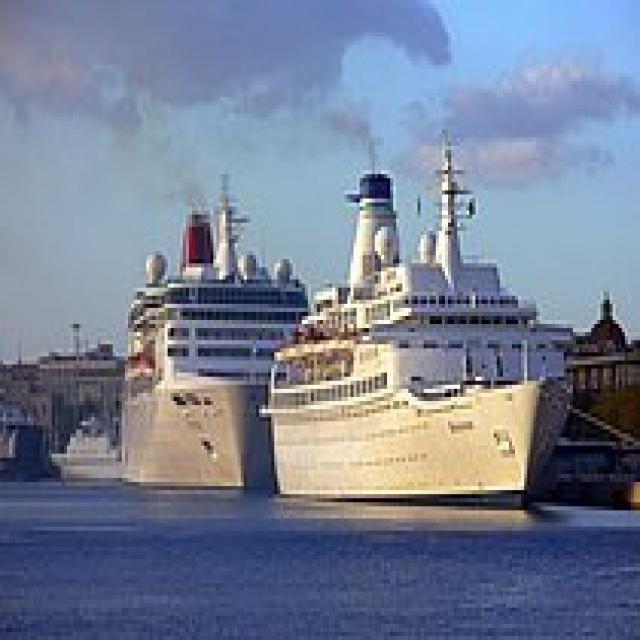Ship: (257, 115, 589, 512), (111, 151, 322, 508)
